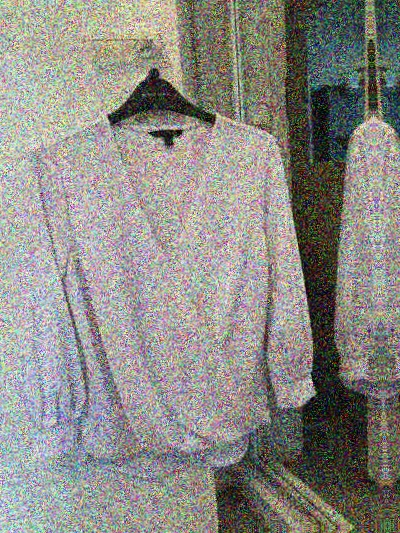Blouse: (0, 74, 321, 480)
